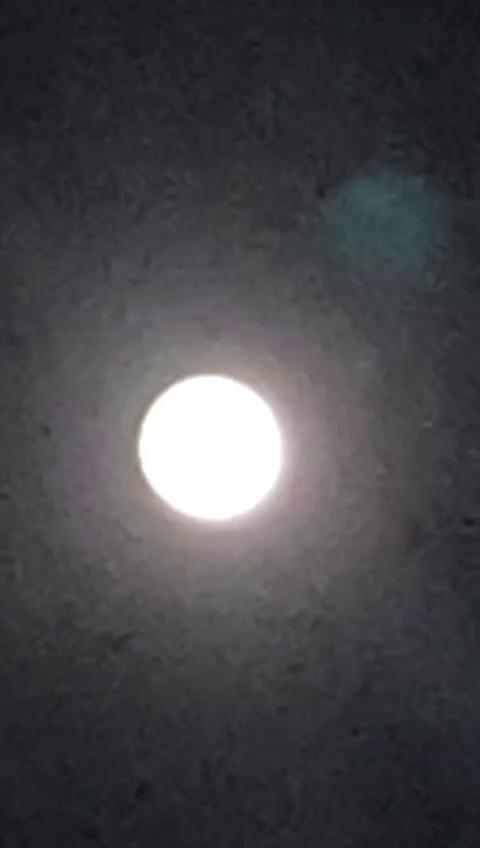moon: (142, 342, 309, 532)
